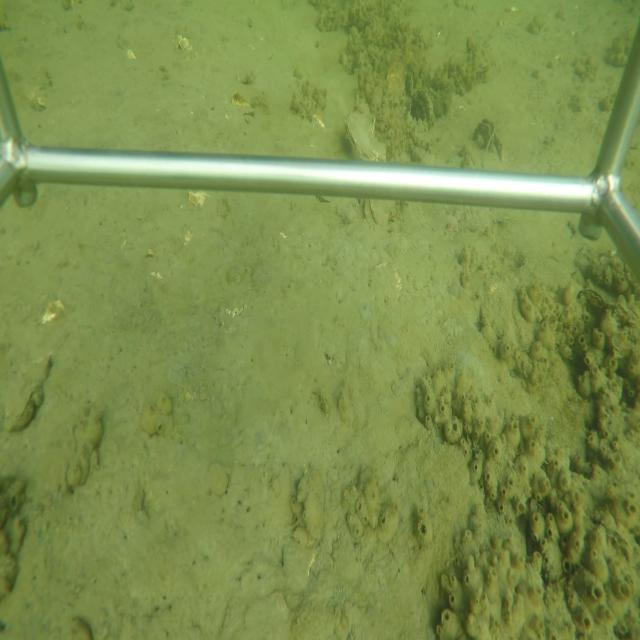Oyster-Closed: (4, 355, 55, 437), (573, 282, 637, 331), (342, 101, 389, 161)
Oyster-Open: (471, 116, 506, 167)
